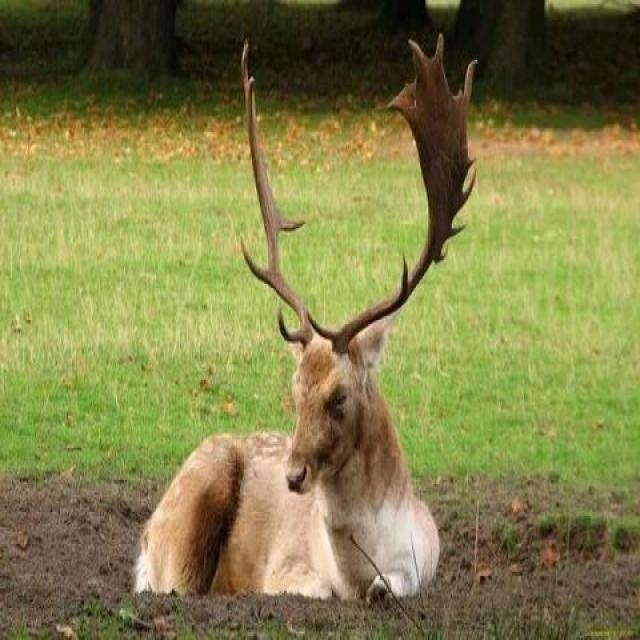deer: (134, 102, 484, 613)
